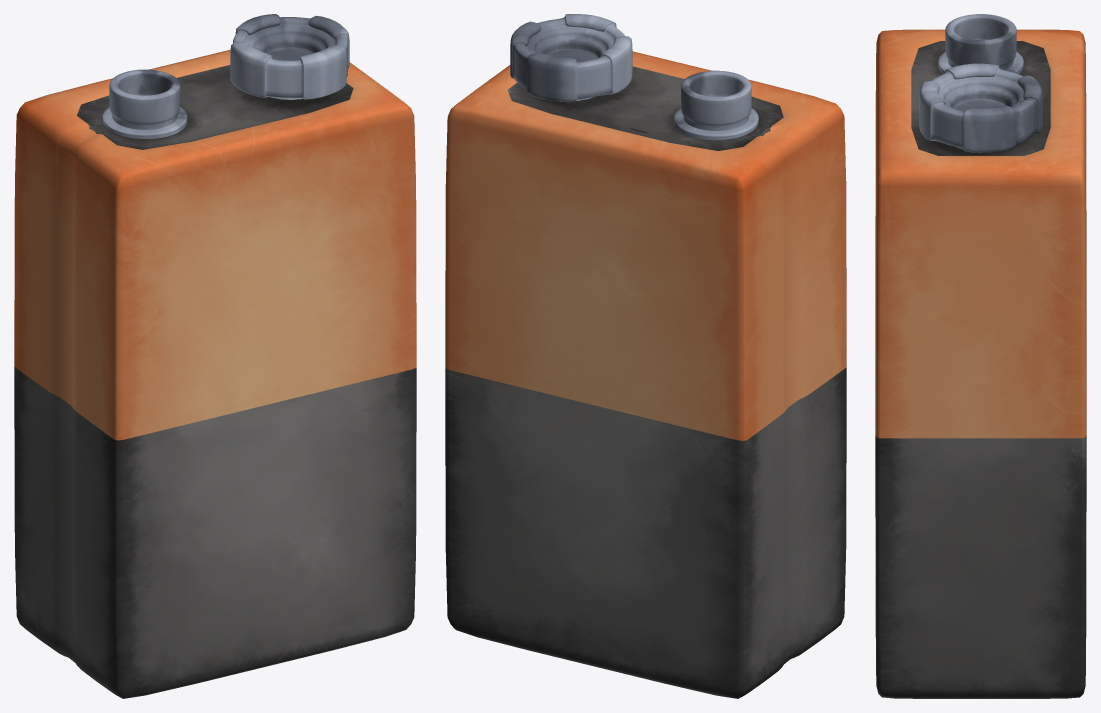
The model's file is Battery.fbx.
3 renders of one model, left to right at view 1: azimuth 30°, elevation 25°; view 2: azimuth 150°, elevation 25°; view 3: azimuth 270°, elevation 25°, orthographic.
Parts seen in each view (by area): view 1: pCube2; view 2: pCube2; view 3: pCube2.
Boxes of the visible parts, left/top/right/bottom form: pCube2: left=14, top=14, right=416, bottom=698; pCube2: left=445, top=14, right=846, bottom=698; pCube2: left=875, top=14, right=1086, bottom=698.
Size of the model in its own units: 12.79 by 23.36 by 7.69.
3 materials, 3 textured.
